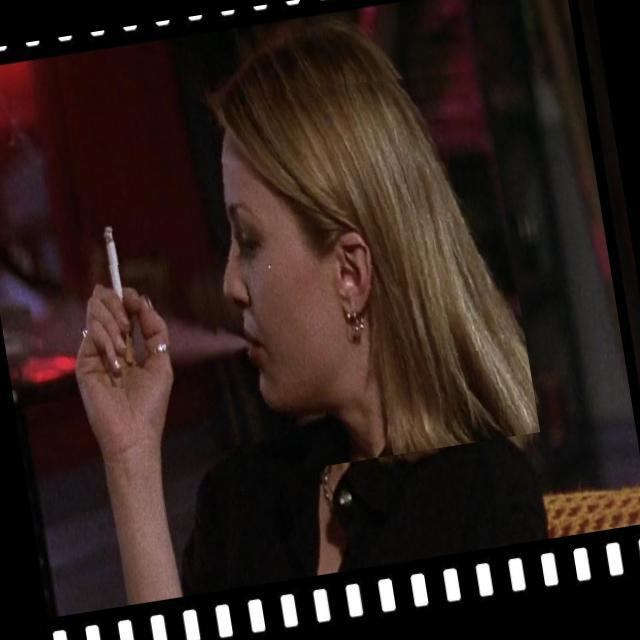cigarette: (85, 209, 165, 391)
